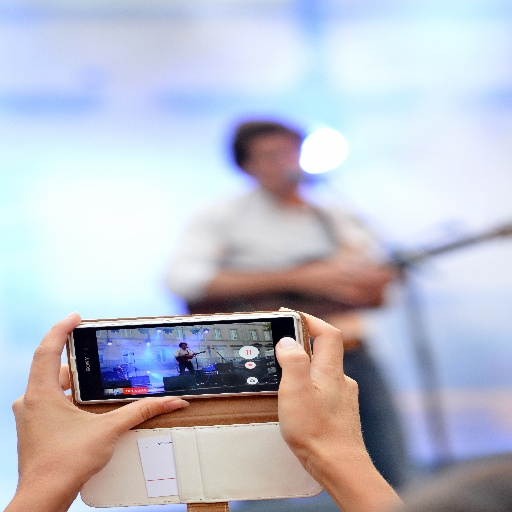hand: (3, 308, 194, 501), (274, 305, 361, 474), (287, 259, 358, 296)
